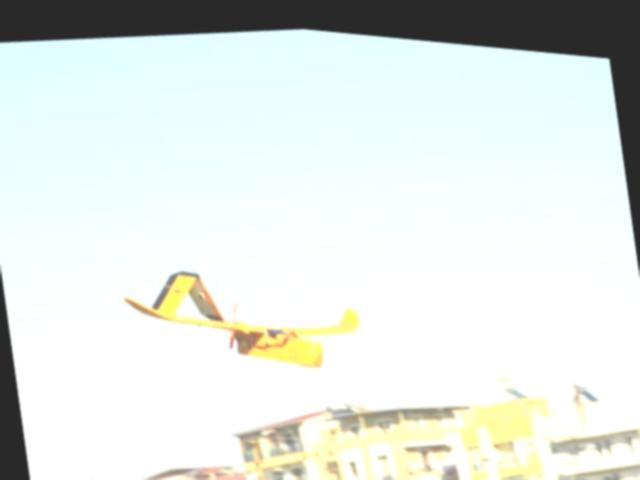iha: (112, 230, 377, 396)
